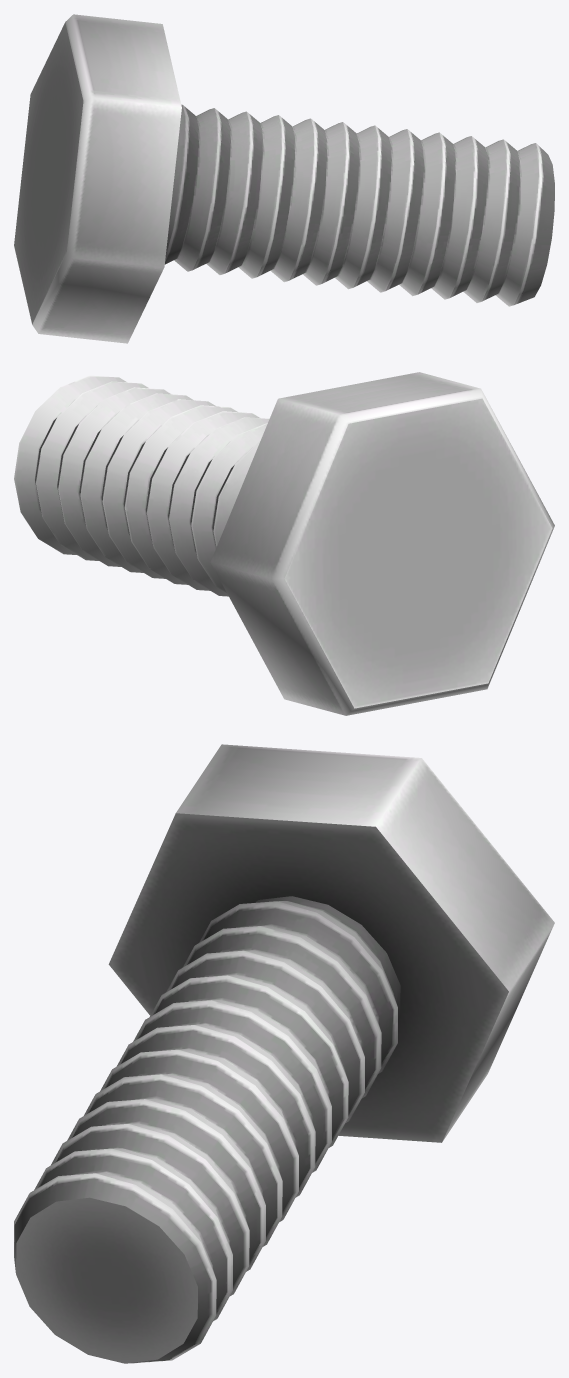
Rendered from nut_1.fbx.
The picture shows the model from 3 angles, top to bottom: view 1: azimuth 30°, elevation 25°; view 2: azimuth 150°, elevation 25°; view 3: azimuth 270°, elevation 25°; orthographic projection. The views are drawn at different scales.
Visible parts, largest first — view 1: nut_1; view 2: nut_1; view 3: nut_1.
Boxes of the visible parts, x1,y1,x2,y2 form: nut_1: [14, 14, 554, 343]; nut_1: [14, 372, 554, 715]; nut_1: [14, 744, 554, 1363].
Size of the model in its own units: 0.1497 by 0.0857 by 0.1084.
1 material, 1 textured.
